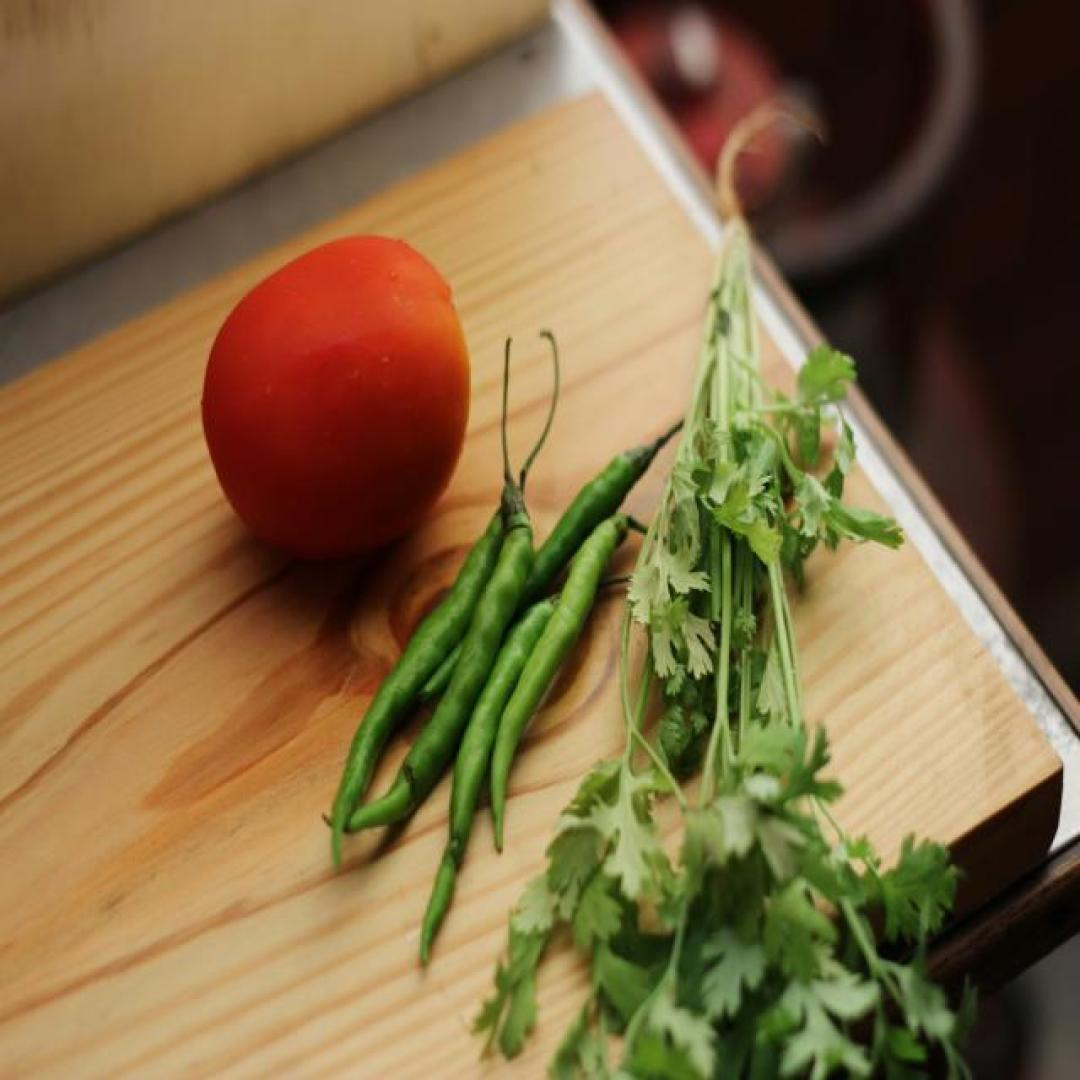matang: (199, 235, 471, 564)
